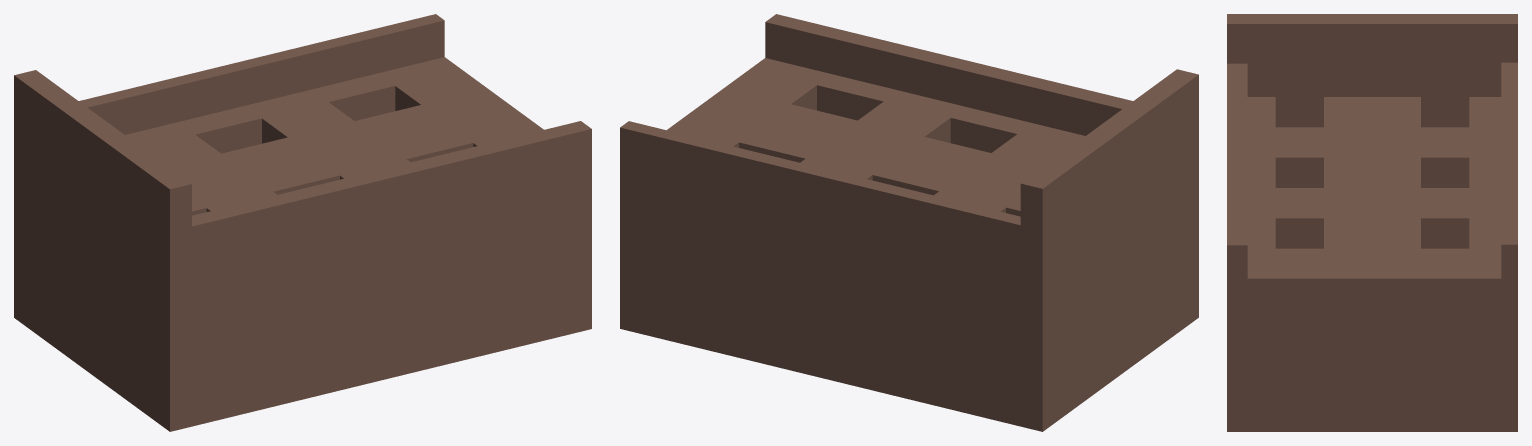
The model's file is mesaSapoTest2.fbx.
3 views of the same model, side by side, from view 1: azimuth 30°, elevation 25°; view 2: azimuth 150°, elevation 25°; view 3: azimuth 270°, elevation 25° (orthographic). The views are drawn at different scales.
Visible parts, largest first — view 1: Mesa; view 2: Mesa; view 3: Mesa.
Part boxes in pixels (x1,y1,x2,y2): Mesa: [14, 14, 591, 431]; Mesa: [620, 14, 1198, 431]; Mesa: [1227, 14, 1517, 431].
Size of the model in its own units: 732 by 402 by 468.
